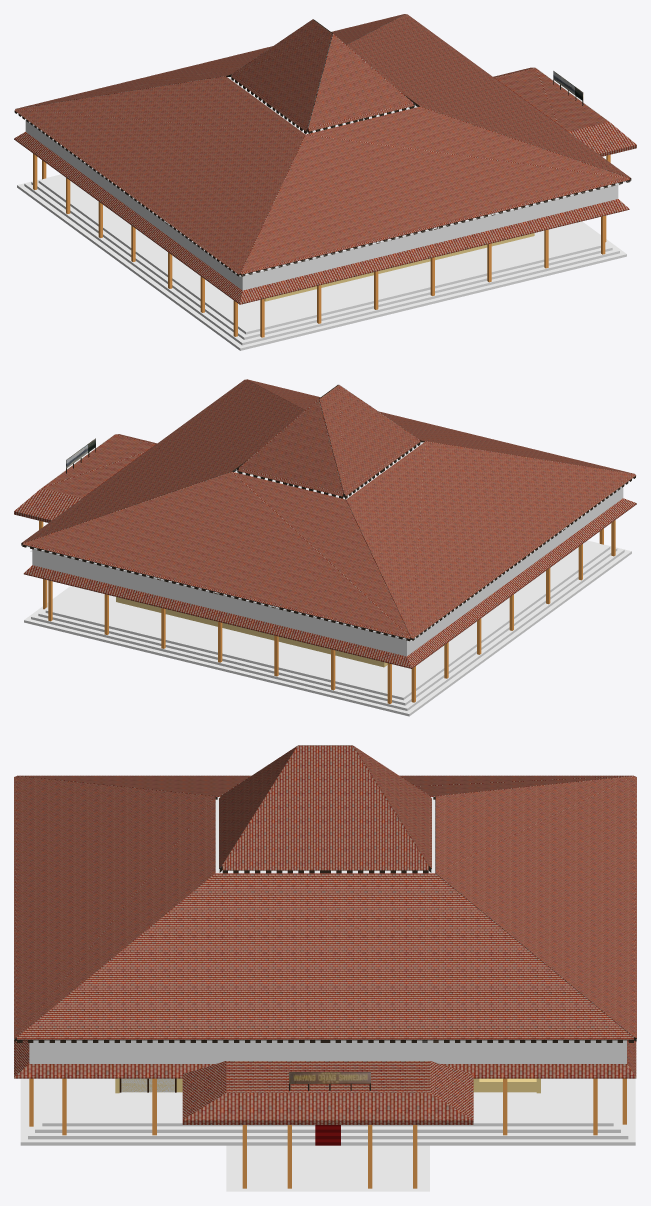
The model's file is Gedung Wayang Orang.fbx.
3 views of the same model, one above another, from view 1: azimuth 30°, elevation 25°; view 2: azimuth 150°, elevation 25°; view 3: azimuth 270°, elevation 25° (orthographic). The views are drawn at different scales.
Parts seen in each view (by area): view 1: Group122, Group4, Group2, Group9, Group236, Group5, Group8, Group3; view 2: Group122, Group8, Group4, Group2, Group9, Group236, Group5, Group3; view 3: Group9, Group2, Group122, Group8, Group4, Group236, Group5, Group3, Group311.
Part boxes in pixels (x1,y1,x2,y2): Group122: (14,76,630,274); Group4: (17,174,626,350); Group2: (14,67,636,290); Group9: (347,14,631,178); Group236: (231,19,414,131); Group5: (14,132,629,304); Group8: (15,14,404,109); Group3: (264,233,534,301); Group122: (247,379,635,638); Group8: (22,471,410,639); Group4: (24,540,631,716); Group2: (14,434,636,656); Group9: (21,379,304,543); Group236: (237,384,420,496); Group5: (23,498,636,668); Group3: (116,597,387,667); Group9: (17,873,633,1040); Group2: (14,797,626,1191); Group122: (14,775,633,1038); Group8: (435,776,636,1038); Group4: (20,1078,635,1145); Group236: (219,745,431,870); Group5: (14,1040,636,1078); Group3: (115,1078,540,1093); Group311: (289,1072,370,1083).
Bounding box in the file's own units: 10018 × 4095 × 8559.
